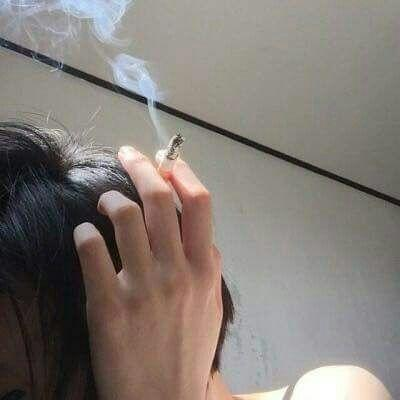cigarette: (157, 133, 184, 179)
